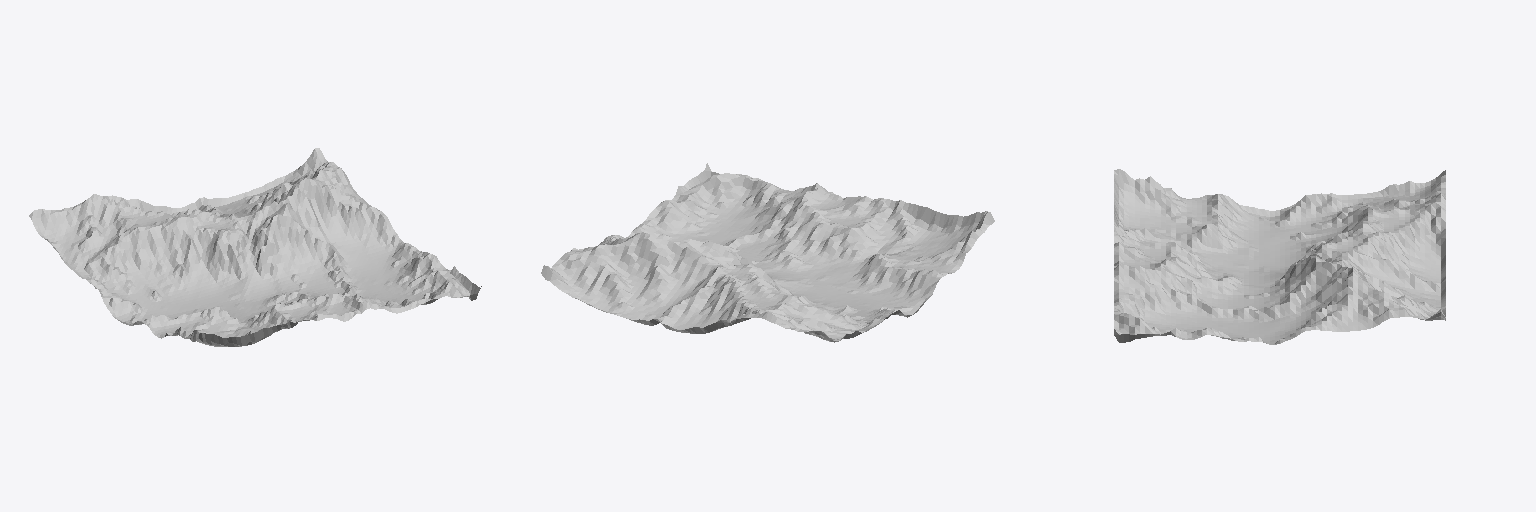
Rendered from landscape1.obj.
3 views of the same model, side by side, from view 1: azimuth 30°, elevation 25°; view 2: azimuth 150°, elevation 25°; view 3: azimuth 270°, elevation 25° (orthographic).
Parts seen in each view (by area): view 1: Plane; view 2: Plane; view 3: Plane.
Part boxes in pixels (x1,y1,x2,y2): Plane: (29,148,481,346); Plane: (541,163,994,342); Plane: (1114,169,1445,344).
Size of the model in its own units: 40 by 7.69 by 40.